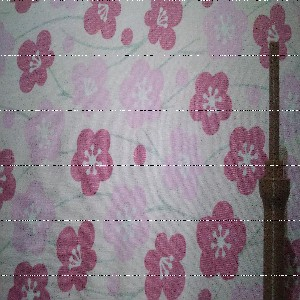obeng: (258, 39, 291, 300)
